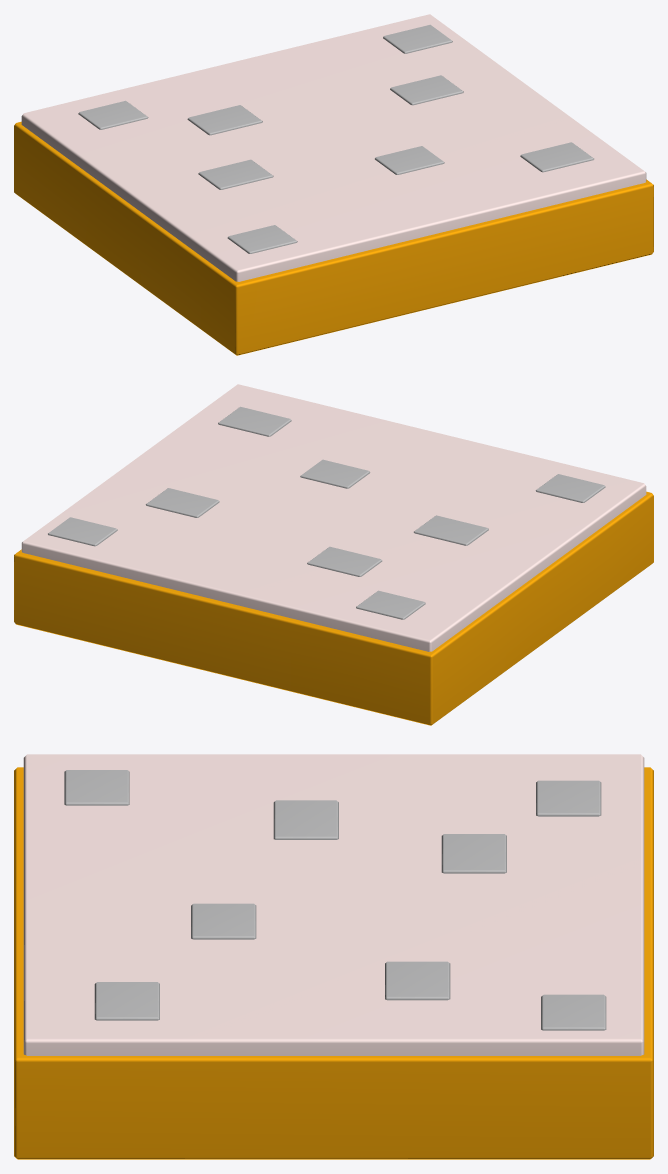
Rendered from Store_19_Base_1.glb.
3 views of the same model, one above another, from view 1: azimuth 30°, elevation 25°; view 2: azimuth 150°, elevation 25°; view 3: azimuth 270°, elevation 25° (orthographic). The views are drawn at different scales.
Parts seen in each view (by area): view 1: Store_19_Base_1; view 2: Store_19_Base_1; view 3: Store_19_Base_1.
Part boxes in pixels (bbox=[...]): Store_19_Base_1: bbox=[14, 14, 653, 355]; Store_19_Base_1: bbox=[14, 384, 653, 725]; Store_19_Base_1: bbox=[14, 754, 653, 1159].
Bounding box in the file's own units: 8.63 × 1.66 × 7.96.
1 material, 1 textured.
